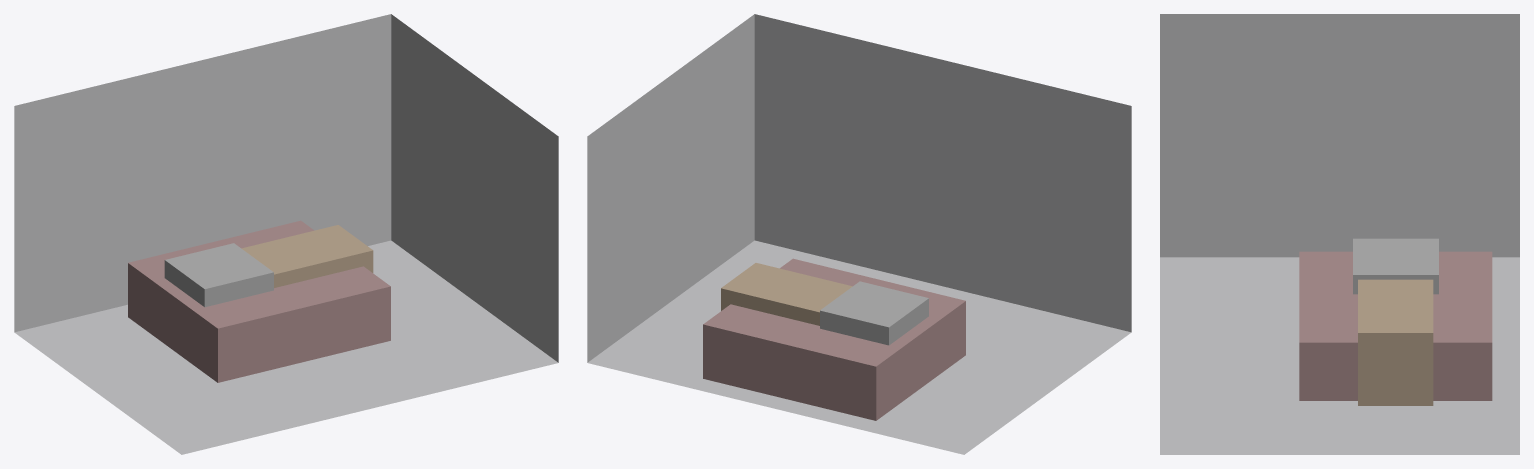
File: current_layout.glb
The picture shows the model from 3 angles, left to right: view 1: azimuth 30°, elevation 25°; view 2: azimuth 150°, elevation 25°; view 3: azimuth 270°, elevation 25°; orthographic projection. The views are drawn at different scales.
Visible parts, largest first — view 1: room, bed, desk, dustbin; view 2: room, bed, desk, dustbin; view 3: room, bed, desk, dustbin.
Part boxes in pixels (x1,y1,x2,y2): room: (14,14,558,454); bed: (128,220,390,382); desk: (241,225,373,287); dustbin: (164,243,273,307); room: (587,14,1131,454); bed: (703,258,965,420); desk: (721,263,852,325); dustbin: (820,281,928,345); room: (1160,14,1519,454); bed: (1299,251,1492,400); desk: (1358,279,1433,405); dustbin: (1353,238,1438,294).
Bounding box in the file's own units: 4.36 × 2.5 × 3.35.
